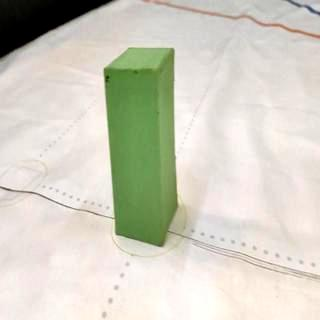greenbox: (104, 47, 178, 245)
